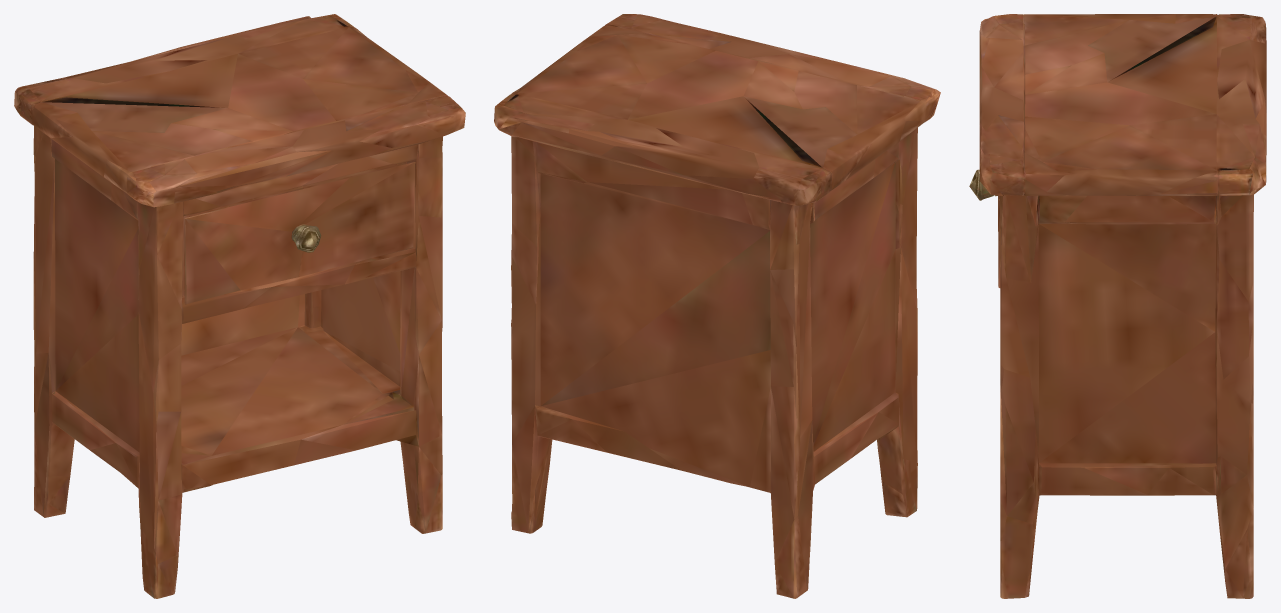
The model's file is side-table.glb.
The picture shows the model from 3 angles, left to right: view 1: azimuth 30°, elevation 25°; view 2: azimuth 150°, elevation 25°; view 3: azimuth 270°, elevation 25°; orthographic projection. The views are drawn at different scales.
Visible parts, largest first — view 1: Mesh_0; view 2: Mesh_0; view 3: Mesh_0.
Boxes of the visible parts, left/top/right/bottom form: Mesh_0: left=14, top=14, right=465, bottom=598; Mesh_0: left=494, top=14, right=940, bottom=598; Mesh_0: left=969, top=14, right=1266, bottom=598.
Size of the model in its own units: 1.52 by 1.9 by 1.18.
Materials: 1 (1 with a texture image).
